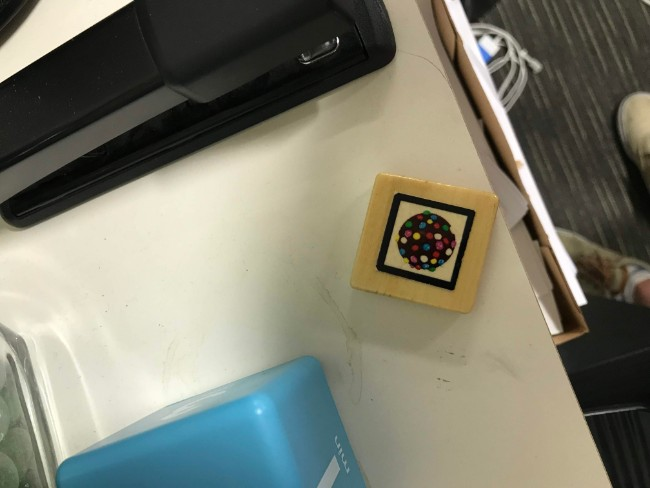cookie: (372, 188, 483, 299)
